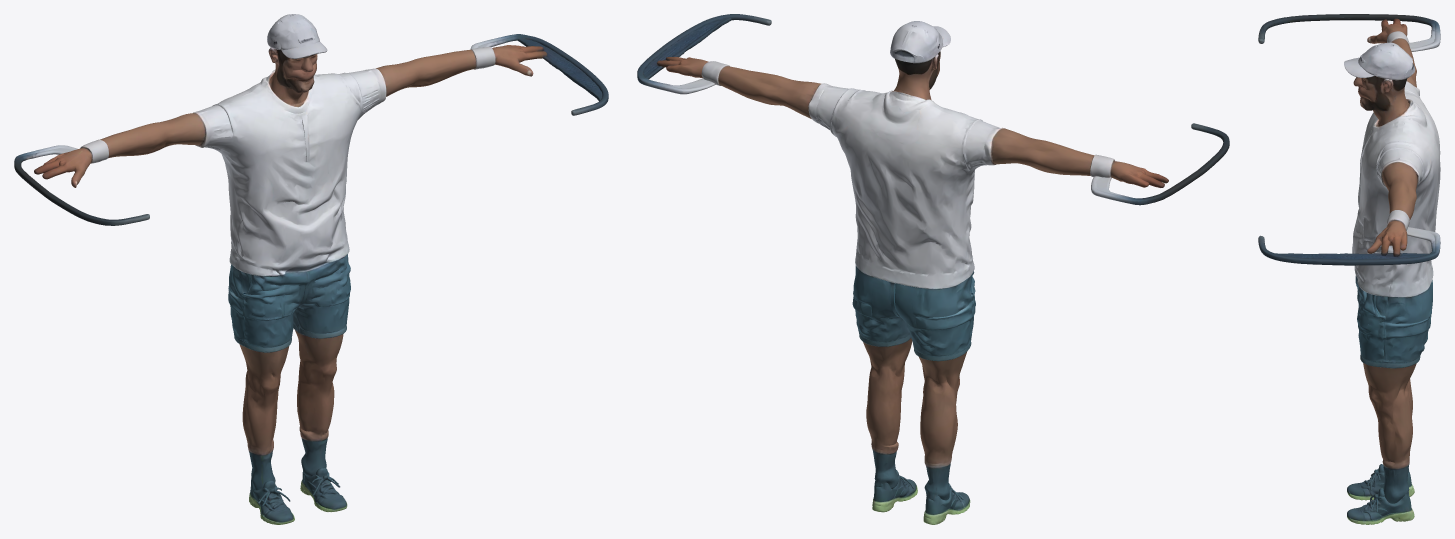
The model's file is rodin-djokovic-2.glb.
3 renders of one model, left to right at view 1: azimuth 30°, elevation 25°; view 2: azimuth 150°, elevation 25°; view 3: azimuth 270°, elevation 25°, orthographic. The views are drawn at different scales.
Visible parts, largest first — view 1: model; view 2: model; view 3: model.
Boxes of the visible parts, <box> form: model: <box>14,14,608,524</box>; model: <box>637,14,1229,524</box>; model: <box>1258,14,1440,524</box>.
Size of the model in its own units: 1.9 by 1.65 by 0.5901.
1 material, 1 textured.
